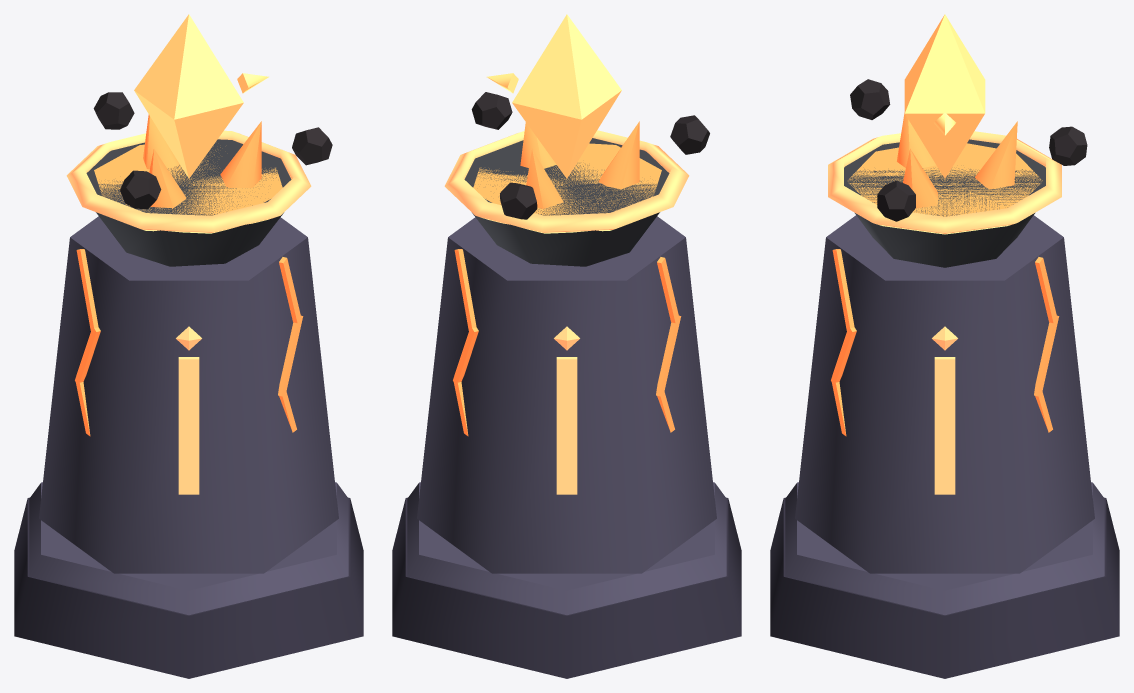
File: tower_element_elementFire.glb
3 renders of one model, left to right at view 1: azimuth 30°, elevation 25°; view 2: azimuth 150°, elevation 25°; view 3: azimuth 270°, elevation 25°, orthographic.
Visible parts, largest first — view 1: pillar, base, base_top, fire_bowl, crystal, fire_bowl_rim, fire_embers, aura, rune_2, lava_crack_1, fire_tongue_0, lava_crack_2 (+2 smaller); view 2: pillar, base, base_top, fire_bowl, crystal, fire_bowl_rim, fire_embers, aura, rune_1, lava_crack_0, lava_crack_1, fire_tongue_1 (+2 smaller); view 3: pillar, base, base_top, fire_bowl, crystal, fire_bowl_rim, fire_embers, aura, rune_0, lava_crack_2, lava_crack_0, fire_tongue_2 (+2 smaller).
Part boxes in pixels (left/top/right/bottom): pillar: left=39, top=216, right=338, bottom=573; base: left=14, top=497, right=363, bottom=678; base_top: left=29, top=482, right=348, bottom=614; fire_bowl: left=86, top=139, right=291, bottom=266; crystal: left=134, top=14, right=243, bottom=178; fire_bowl_rim: left=66, top=130, right=311, bottom=233; fire_embers: left=94, top=144, right=282, bottom=215; aura: left=93, top=92, right=332, bottom=209; rune_2: left=178, top=357, right=199, bottom=494; lava_crack_1: left=75, top=249, right=100, bottom=436; fire_tongue_0: left=220, top=121, right=261, bottom=187; lava_crack_2: left=278, top=257, right=303, bottom=432; pillar: left=417, top=216, right=716, bottom=573; base: left=392, top=497, right=741, bottom=678; base_top: left=407, top=482, right=726, bottom=614; fire_bowl: left=464, top=138, right=669, bottom=266; crystal: left=512, top=14, right=621, bottom=178; fire_bowl_rim: left=444, top=130, right=689, bottom=233; fire_embers: left=473, top=143, right=661, bottom=215; aura: left=471, top=92, right=709, bottom=219; rune_1: left=556, top=357, right=577, bottom=494; lava_crack_0: left=453, top=249, right=478, bottom=436; lava_crack_1: left=656, top=257, right=681, bottom=432; fire_tongue_1: left=598, top=121, right=639, bottom=189; pillar: left=795, top=215, right=1094, bottom=573; base: left=770, top=497, right=1119, bottom=678; base_top: left=785, top=482, right=1104, bottom=614; fire_bowl: left=844, top=139, right=1045, bottom=267; crystal: left=904, top=14, right=985, bottom=178; fire_bowl_rim: left=828, top=131, right=1061, bottom=234; fire_embers: left=848, top=143, right=1042, bottom=216; aura: left=850, top=79, right=1087, bottom=221; rune_0: left=934, top=357, right=955, bottom=494; lava_crack_2: left=831, top=249, right=856, bottom=436; lava_crack_0: left=1034, top=257, right=1059, bottom=432; fire_tongue_2: left=975, top=121, right=1017, bottom=189.
Size of the model in its own units: 0.39 by 0.618 by 0.3377.
